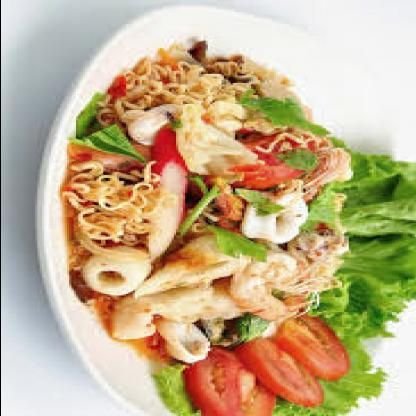Yum: (30, 48, 392, 406)
